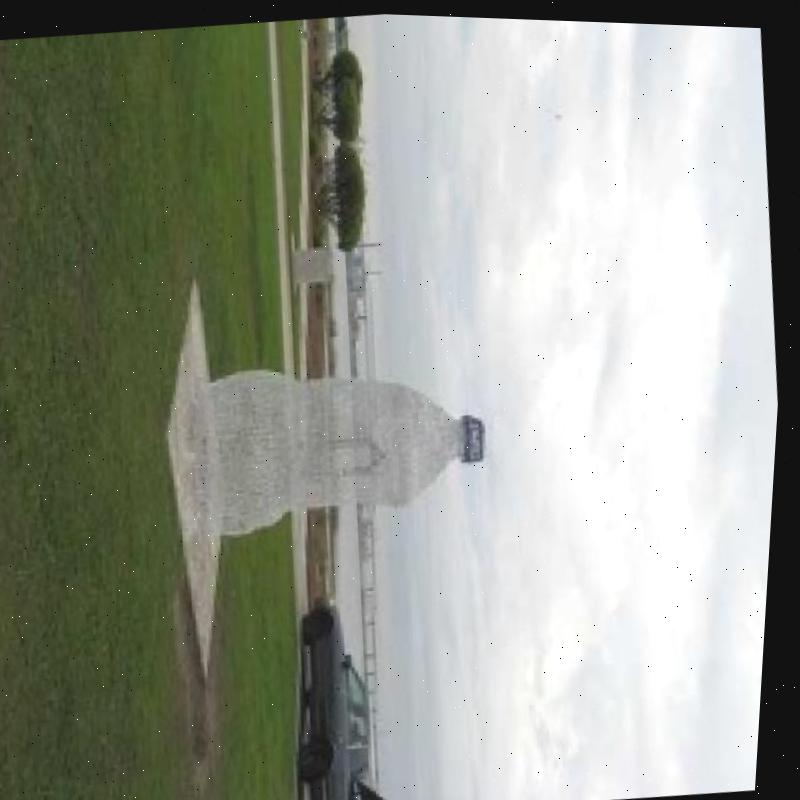botella: (165, 340, 501, 553)
